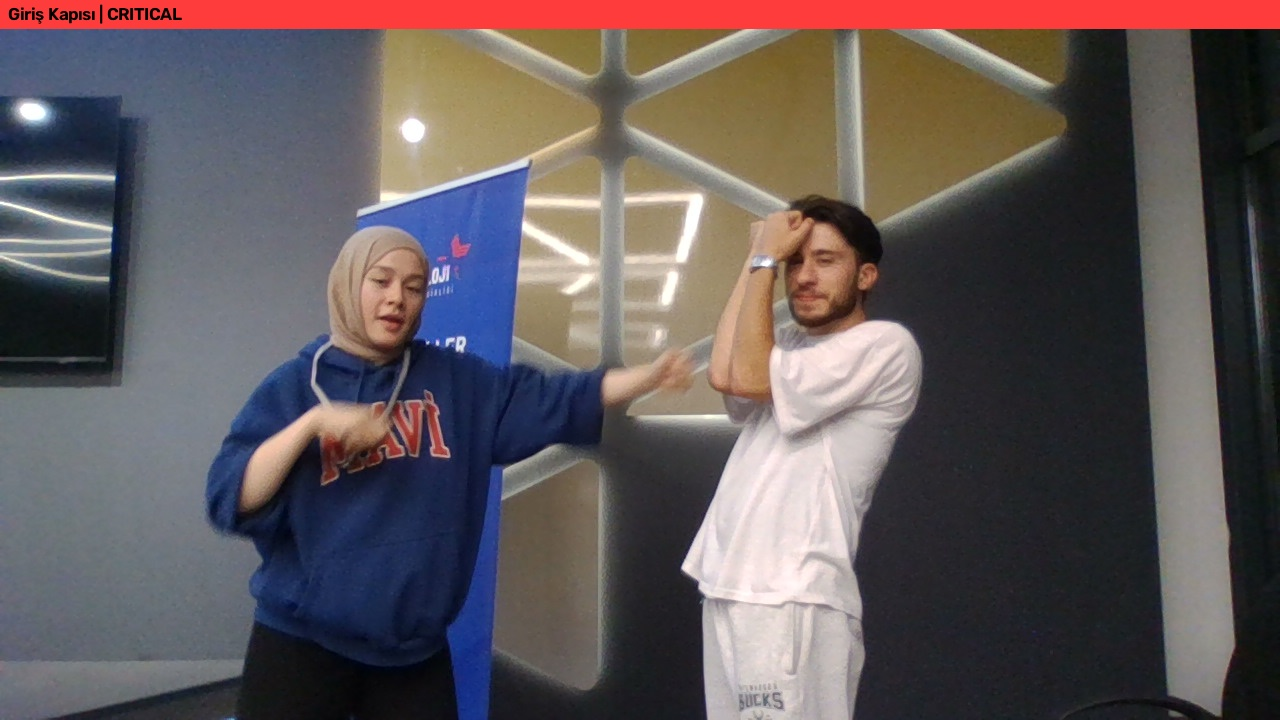weapon: (622, 304, 779, 407)
